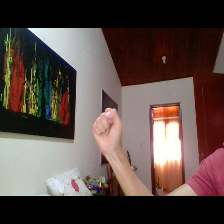9D: (89, 104, 125, 156)
